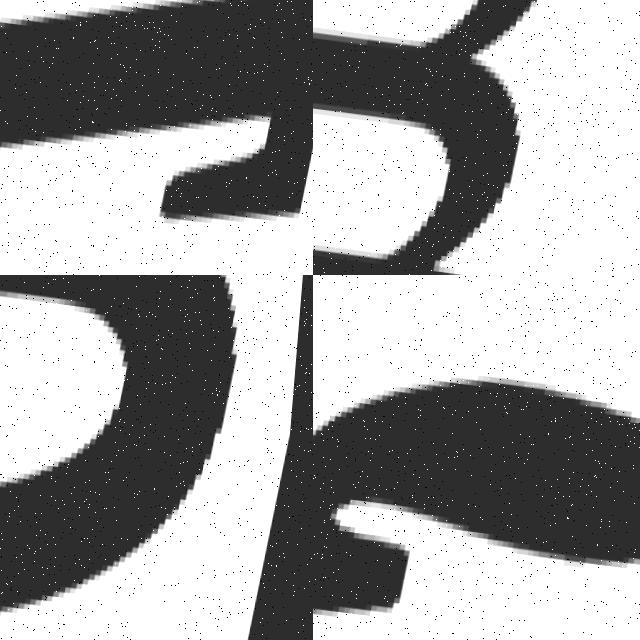M: (313, 0, 593, 275)
O: (0, 275, 284, 640)
S: (313, 275, 640, 640)
Z: (0, 0, 313, 251)
